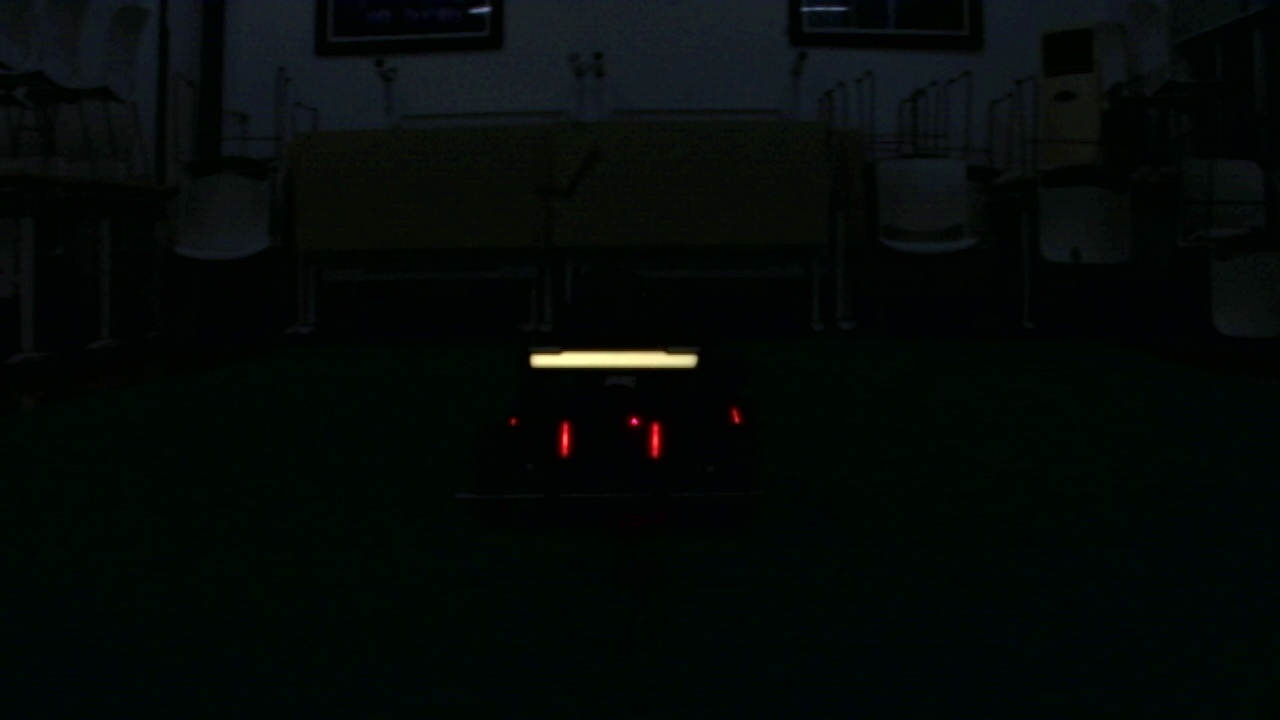lamp: (645, 416, 662, 461), (559, 418, 575, 457)
pair1: (560, 426, 662, 457)
